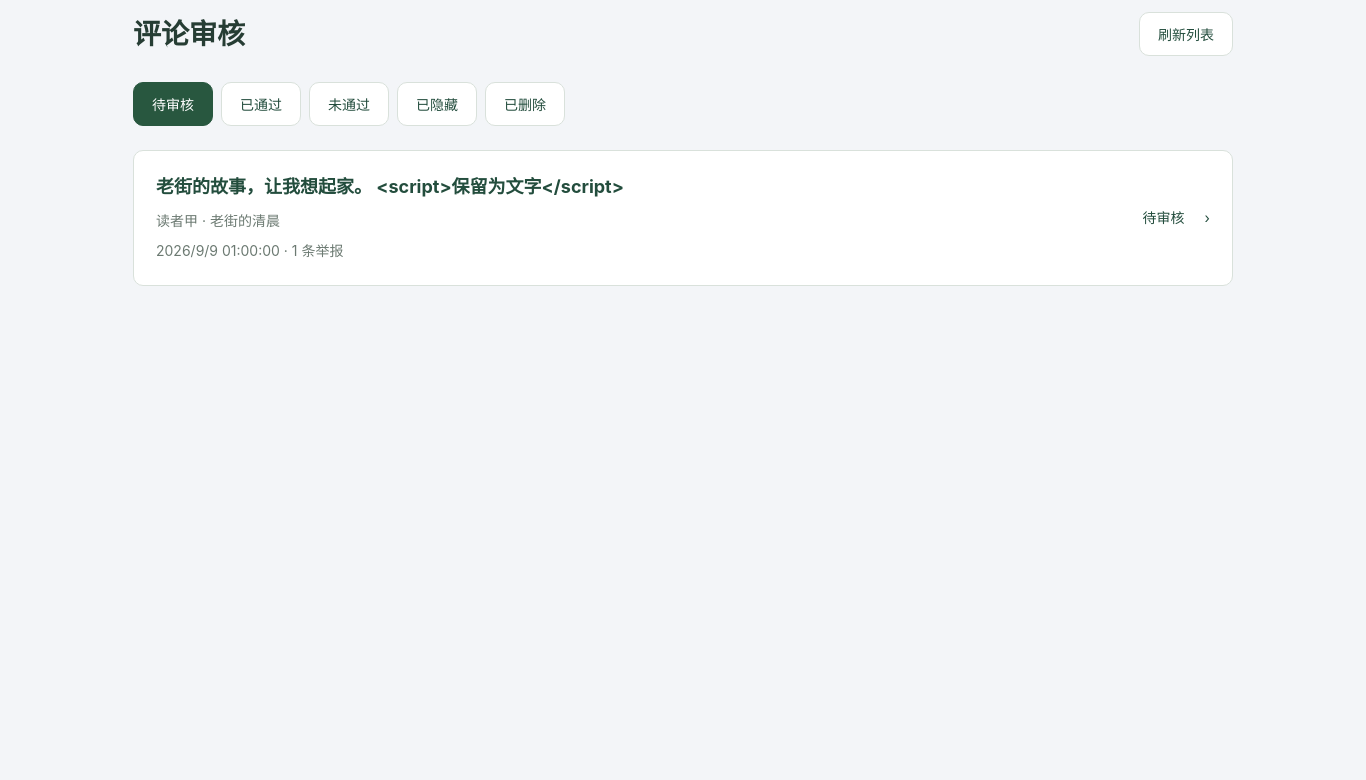
Test: 并发版本冲突关闭旧详情并刷新，不能自动复活已改变的评论
What coordinates should you click on to do the following:
click the button "老街的故事"
I would click on:
 (390, 186)
Its box is top-left (133, 150), bottom-right (1233, 286).
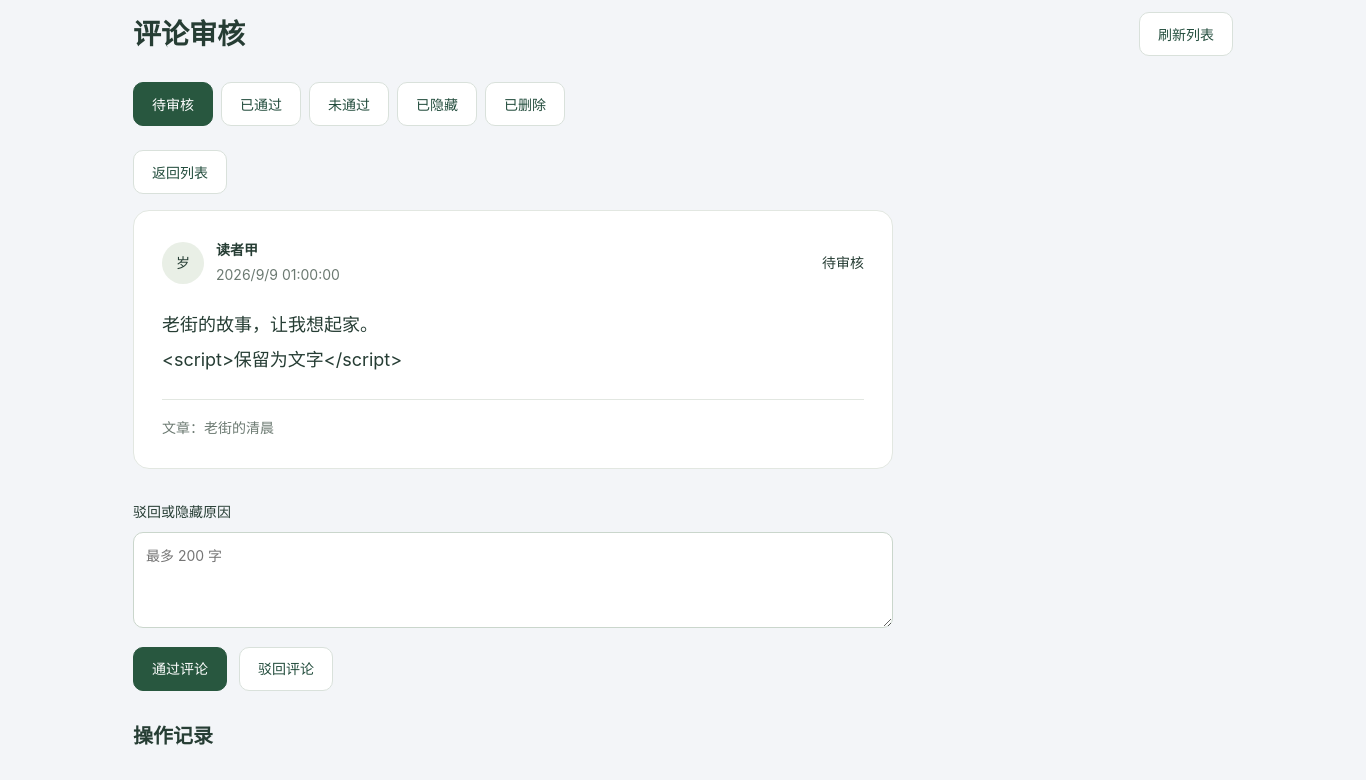
Expected: the element named "评论详情" is shown, top-left (133, 210), bottom-right (893, 469)
What coordinates should you click on to do the following:
click the button "通过评论"
I would click on:
 (180, 669)
Its box is top-left (133, 647), bottom-right (227, 691).
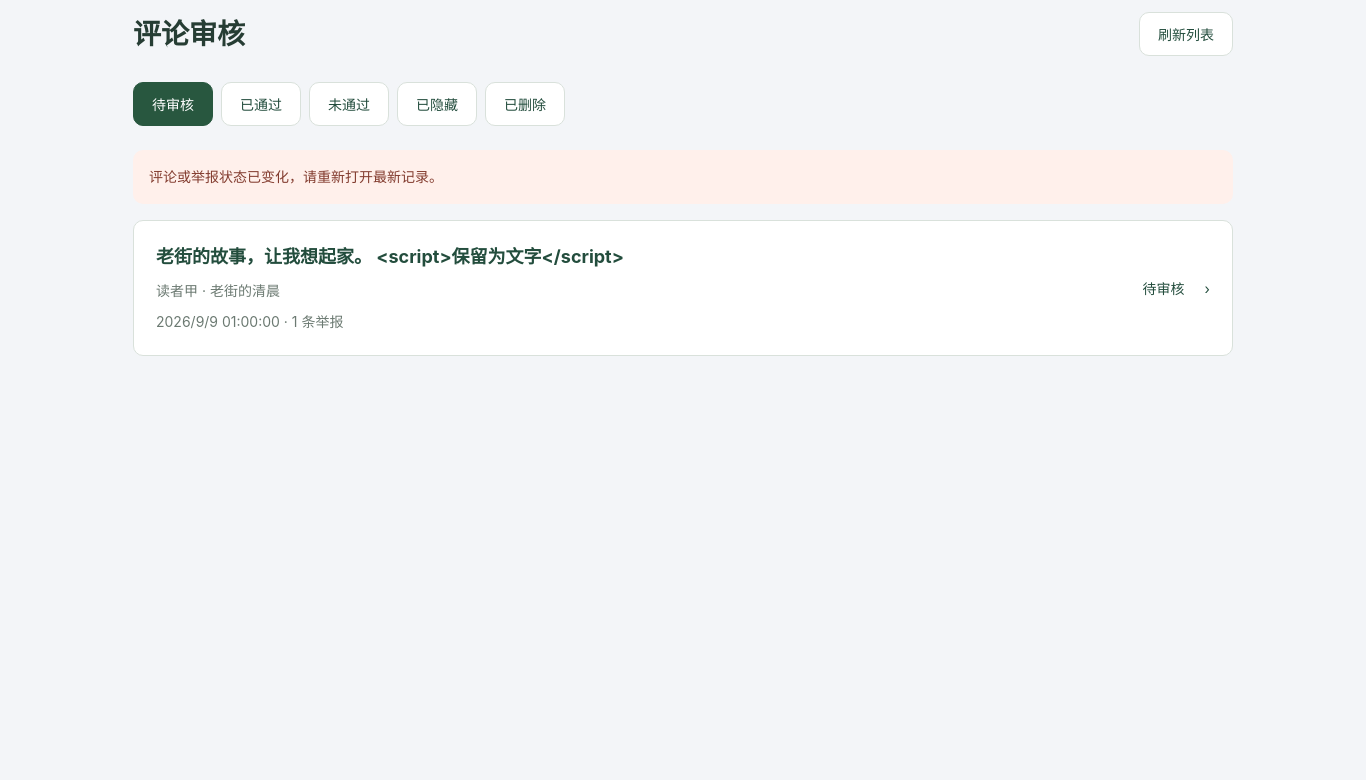
Expected: the message shows "评论或举报状态已变化", top-left (149, 168), bottom-right (443, 185)
Expected: the element "评论详情" is gone
